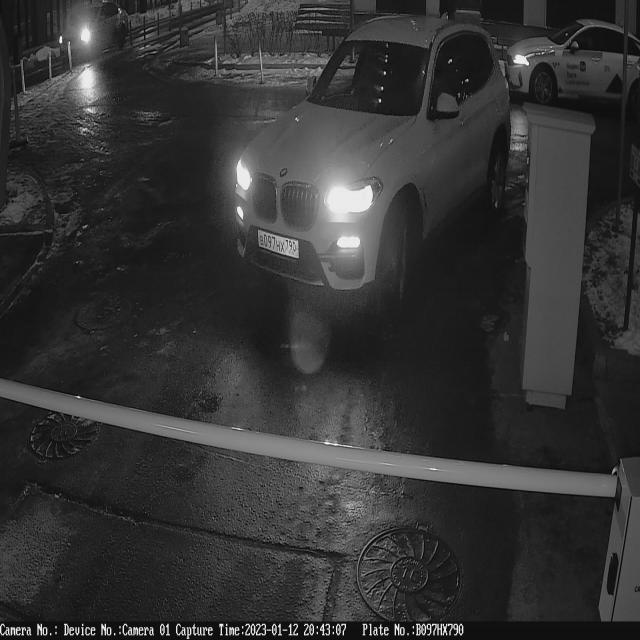car-plate-numbers: (254, 227, 304, 267)
